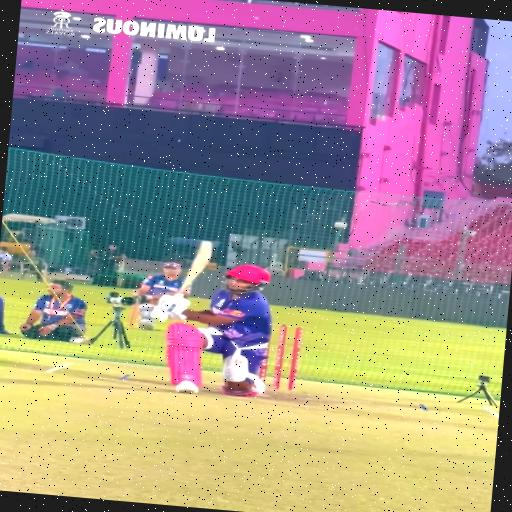Cricket bat: (175, 242, 213, 298)
